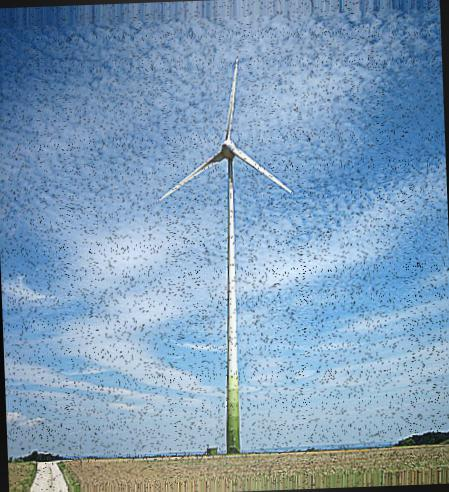wind turbine: (160, 56, 293, 451)
